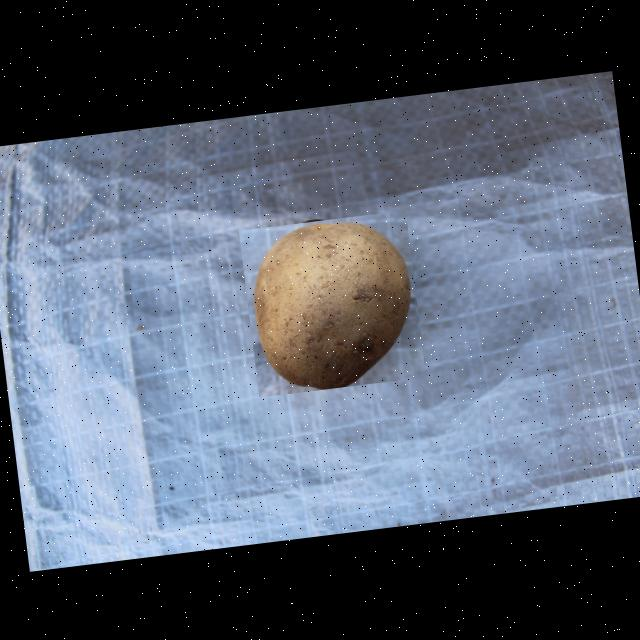Diseased-fungal potato: (238, 209, 424, 396)
